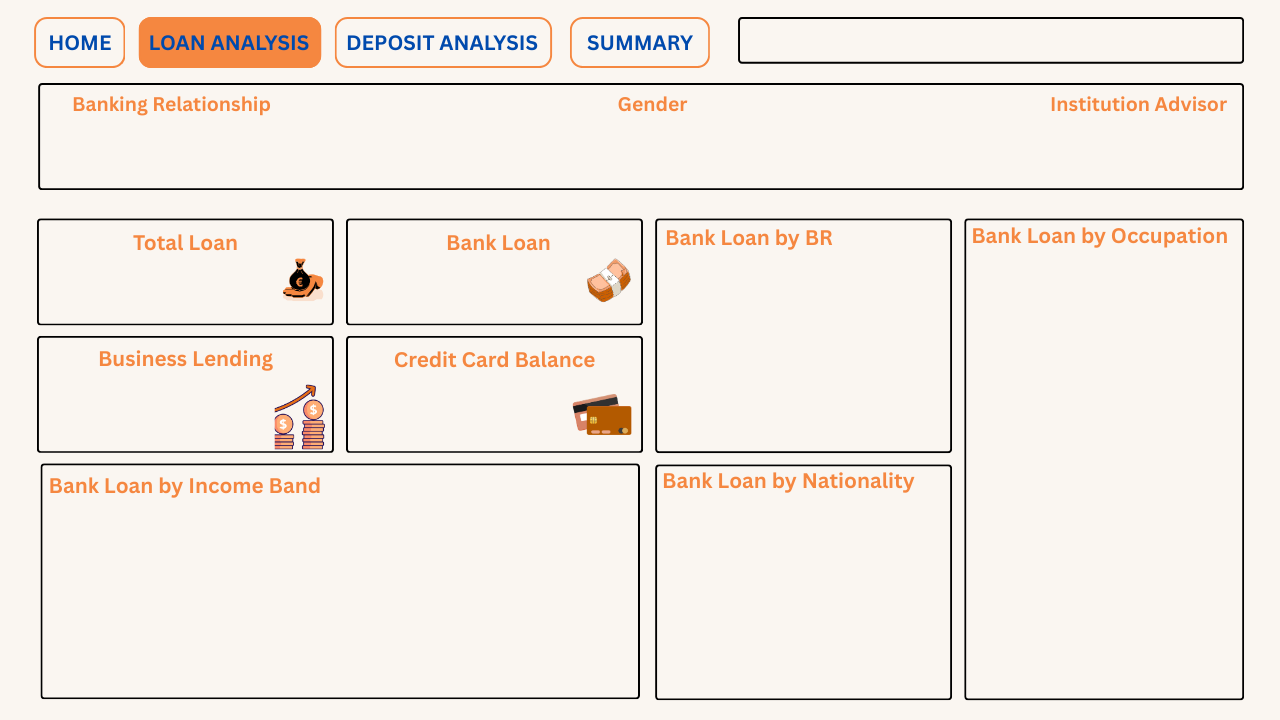

This screenshot's page, from the dashboard's own definition file:
{"tool":"powerbi","page":{"name":"Loan analysis","canvas":[1280,720],"ordinal":1},"visuals":[{"type":"slicer","fields":{"Values":["Banking.Joined Bank.Variation.Date Hierarchy.Year"]},"box":[741,23.3,502.2,34.3],"z":0},{"type":"actionButton","box":[37,20.6,83.7,43.9],"z":1000},{"type":"actionButton","box":[337.6,17.8,209.9,43.9],"z":2000},{"type":"card","fields":{"Values":["Sum(Banking.Bank Loans)"]},"box":[60.4,248.4,245.6,71.4],"z":3000},{"type":"card","fields":{"Values":["Sum(Banking.Business Lending)"]},"box":[60.4,377.4,245.6,71.4],"z":4000},{"type":"card","fields":{"Values":["Sum(Banking.Credit Card Balance)"]},"box":[371.9,377.4,245.6,71.4],"z":5000},{"type":"donutChart","fields":{"Category":["Banking.Income Band"],"Y":["Sum(Banking.Estimated Income)"]},"box":[50.8,509.1,579.1,182.5],"z":6000},{"type":"clusteredColumnChart","fields":{"Category":["Banking.BRId"],"Y":["Sum(Banking.Estimated Income)"]},"box":[657.3,248.4,293.7,200.3],"z":7000},{"type":"clusteredColumnChart","fields":{"Category":["Banking.Nationality"],"Y":["Sum(Banking.Estimated Income)"]},"box":[657.3,498.1,293.7,200.3],"z":8000},{"type":"clusteredColumnChart","fields":{"Y":["Sum(Banking.Estimated Income)"],"Category":["Banking.Occupation"]},"box":[964.7,248.4,278.6,450.1],"z":9000},{"type":"slicer","fields":{"Values":["Banking.BRId"]},"box":[37,120.8,537.9,56.3],"z":10000},{"type":"slicer","fields":{"Values":["Banking.IAId"]},"box":[1042.9,119.4,188,56.3],"z":11000},{"type":"slicer","fields":{"Values":["Banking.GenderId"]},"box":[590.1,123.5,374.6,53.5],"z":12000},{"type":"card","fields":{"Values":["Sum(Banking.Bank Loans)"]},"box":[371.9,248.4,245.6,71.4],"z":13000}]}

Visuals, with their boxes in screenshot pixels (x1, y1, x2, y2), scaled from the page's 1280x720 canvas onto the 1280x720 screenshot:
slicer - Banking.Joined Bank.Variation.Date Hierarchy.Year: region(741, 23, 1243, 58)
actionButton: region(37, 21, 121, 64)
actionButton: region(338, 18, 548, 62)
card - Sum(Banking.Bank Loans): region(60, 248, 306, 320)
card - Sum(Banking.Business Lending): region(60, 377, 306, 449)
card - Sum(Banking.Credit Card Balance): region(372, 377, 618, 449)
donutChart - Banking.Income Band x Sum(Banking.Estimated Income): region(51, 509, 630, 692)
clusteredColumnChart - Banking.BRId x Sum(Banking.Estimated Income): region(657, 248, 951, 449)
clusteredColumnChart - Banking.Nationality x Sum(Banking.Estimated Income): region(657, 498, 951, 698)
clusteredColumnChart - Sum(Banking.Estimated Income) x Banking.Occupation: region(965, 248, 1243, 698)
slicer - Banking.BRId: region(37, 121, 575, 177)
slicer - Banking.IAId: region(1043, 119, 1231, 176)
slicer - Banking.GenderId: region(590, 124, 965, 177)
card - Sum(Banking.Bank Loans): region(372, 248, 618, 320)
